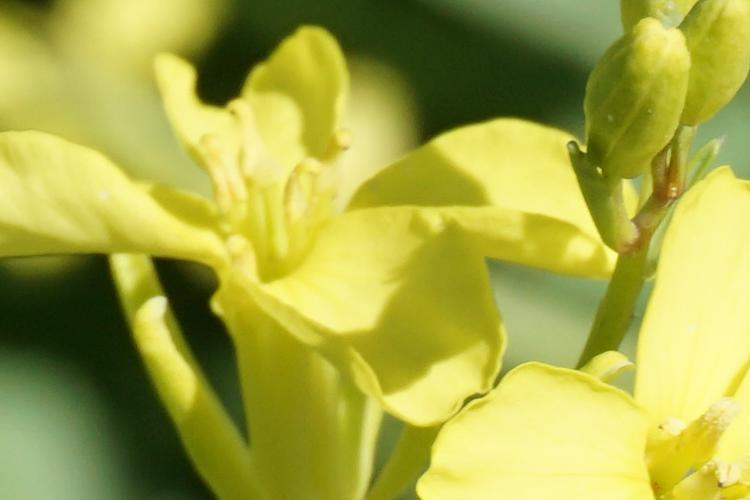bud: (563, 34, 697, 189), (679, 6, 750, 137)
yellow: (71, 61, 589, 456), (451, 306, 749, 500)
